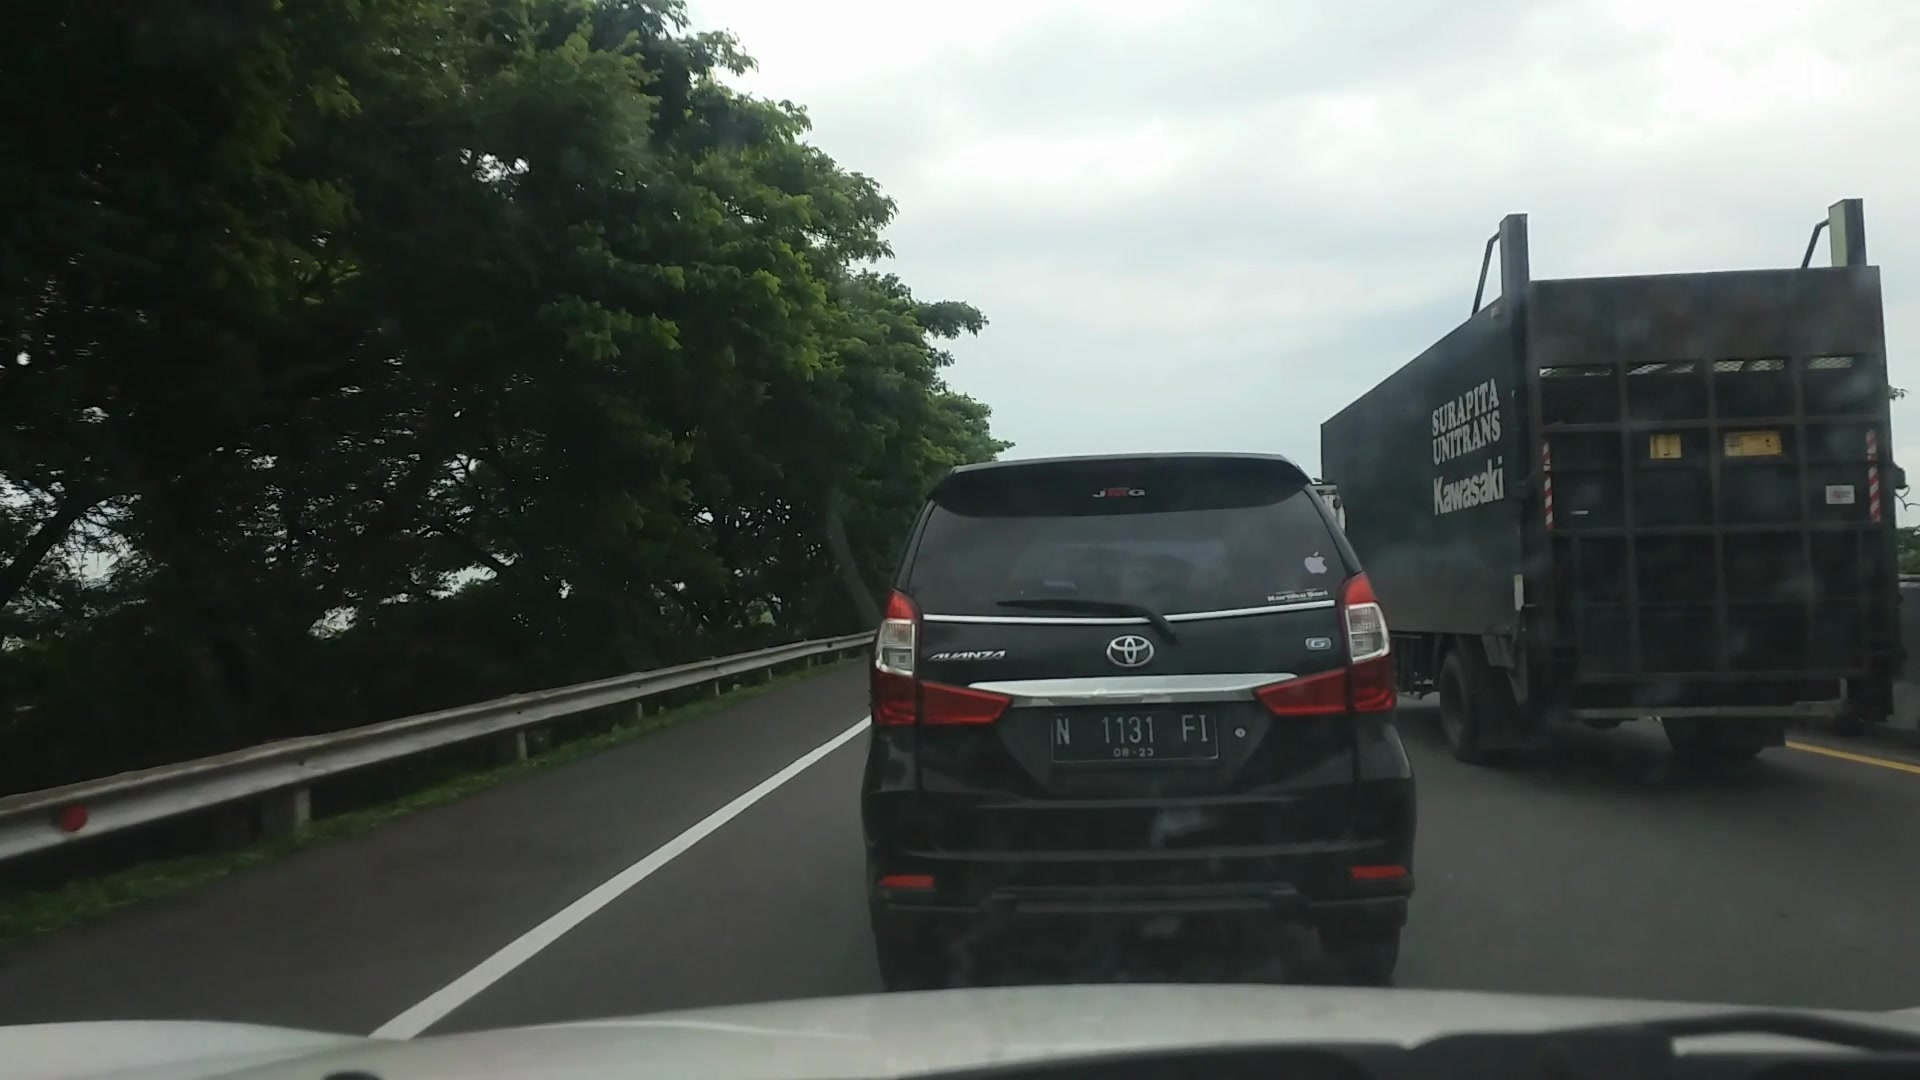plate_positive: (1048, 709, 1218, 762)
